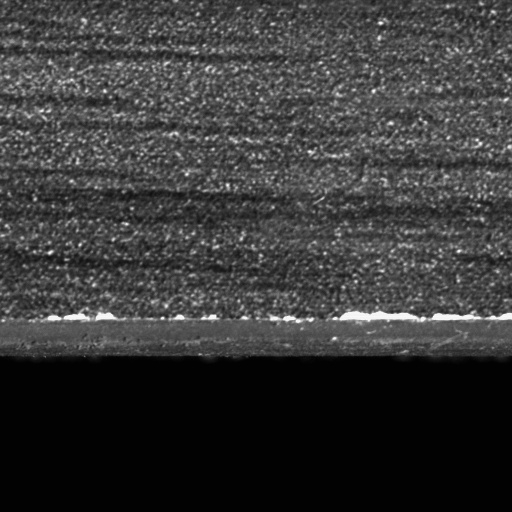huashang: (334, 311, 418, 323), (431, 311, 510, 322), (45, 311, 115, 320)
